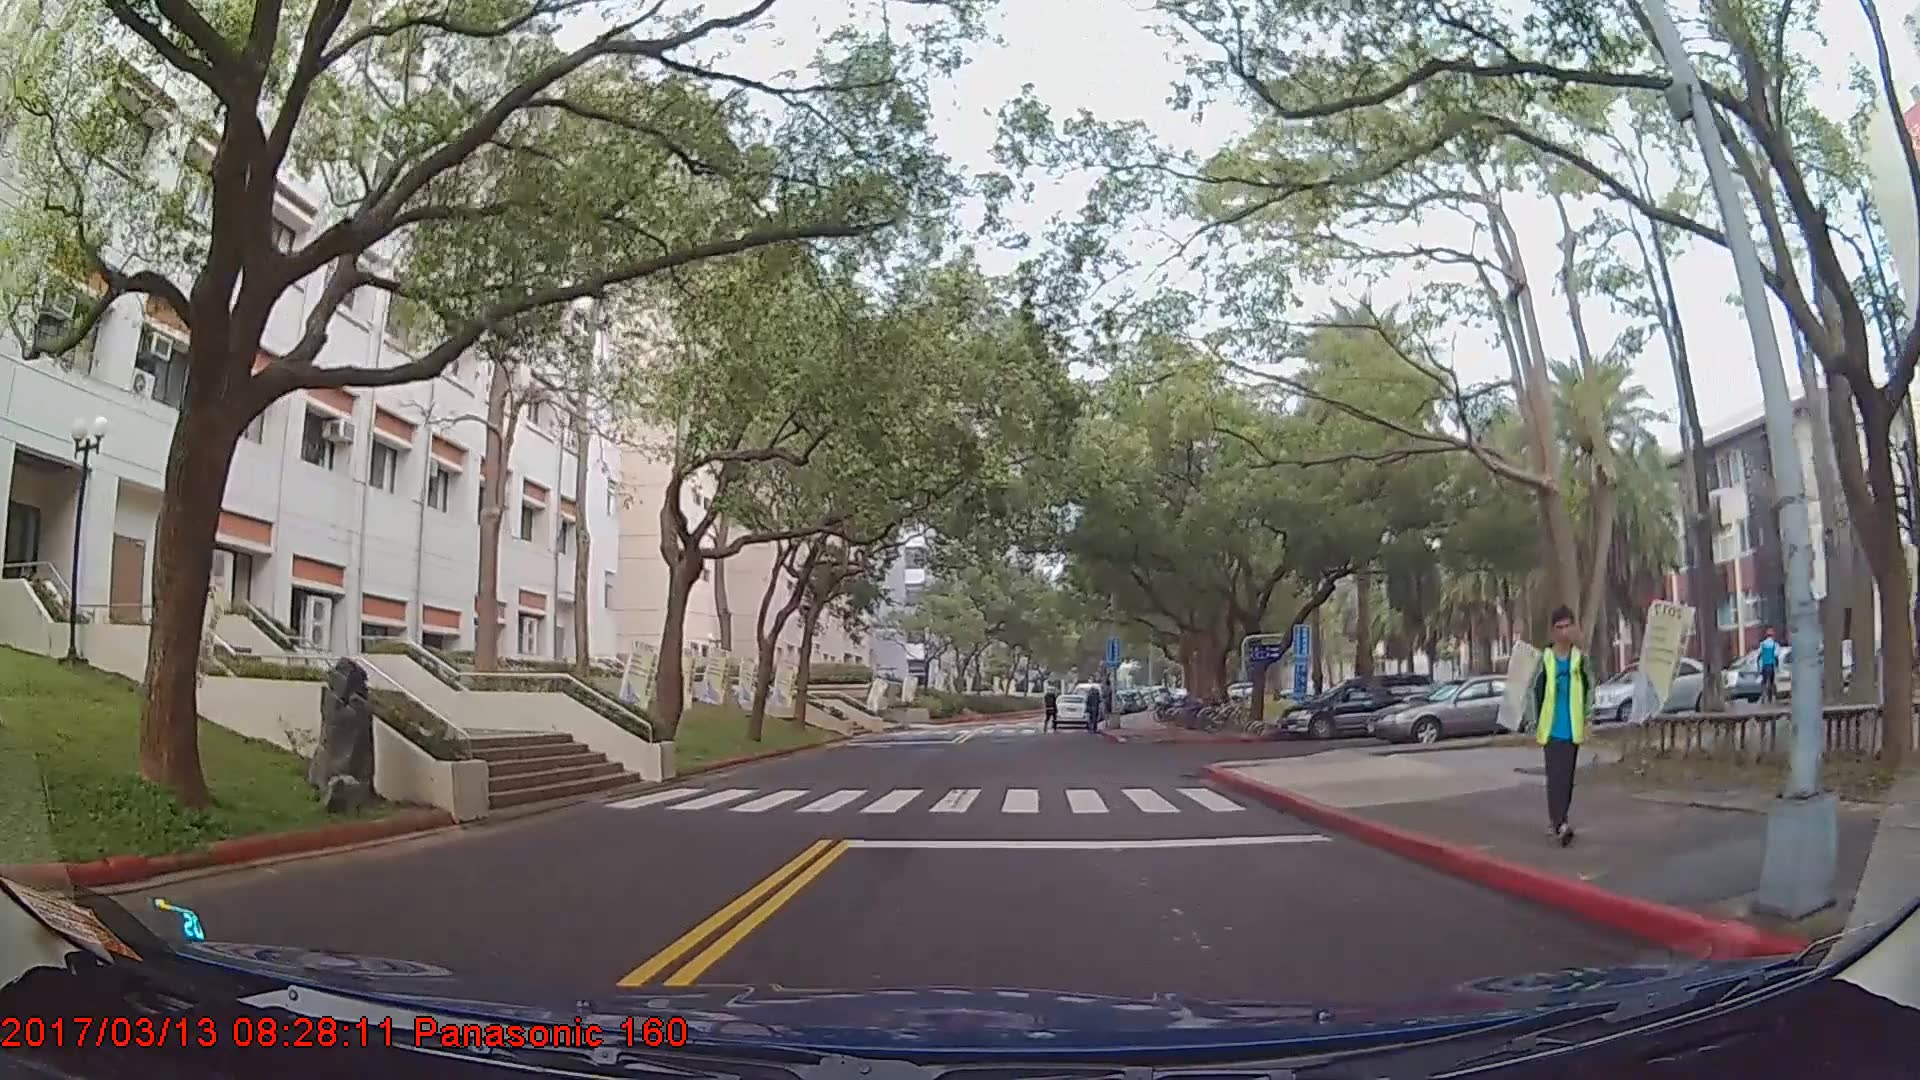pedestrian: (1522, 602, 1596, 844), (1754, 620, 1788, 712), (1042, 685, 1062, 735), (1085, 688, 1105, 735)
vehicle: (1368, 673, 1564, 745), (1280, 673, 1441, 738), (1581, 657, 1731, 727), (1734, 643, 1829, 703), (1049, 694, 1092, 731)
